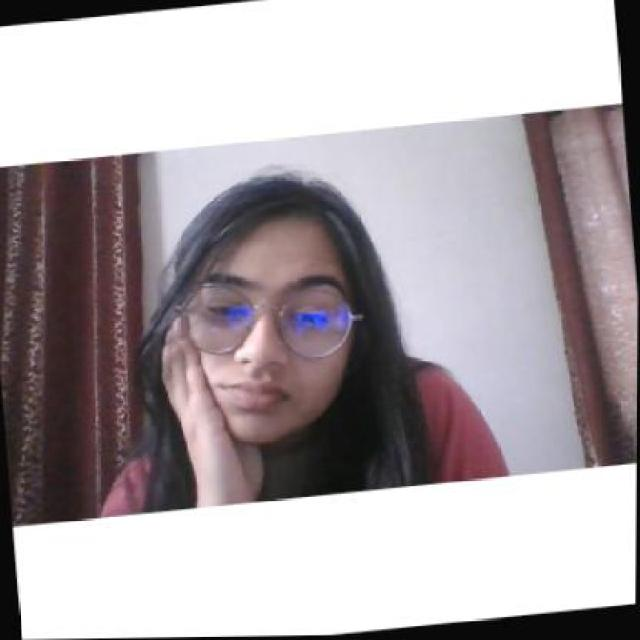attentif: (171, 164, 375, 456)
